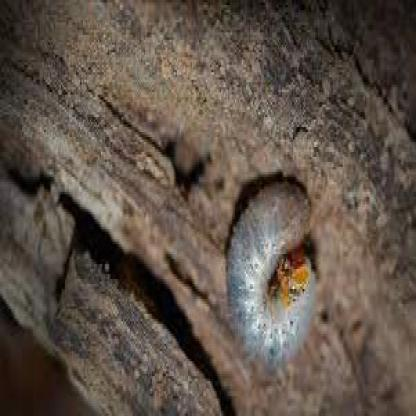root grubs: (229, 178, 319, 379)
